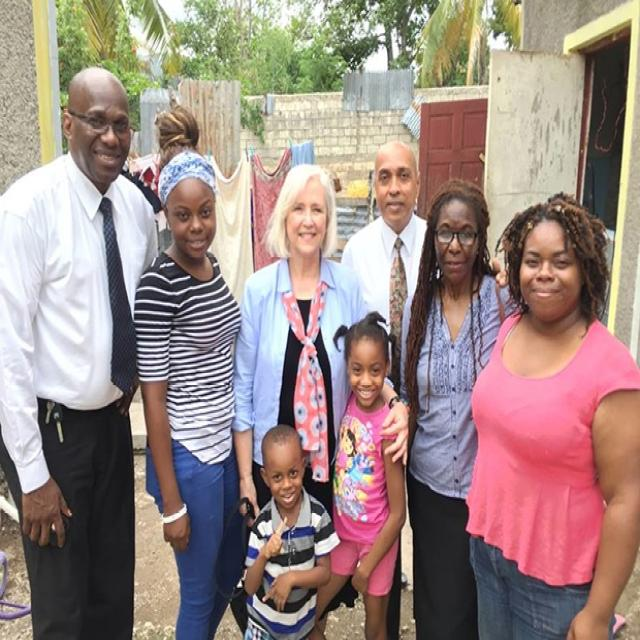body: (0, 63, 165, 639), (338, 137, 512, 638), (461, 186, 639, 638), (230, 160, 411, 534), (395, 177, 526, 640), (130, 139, 250, 639), (311, 309, 407, 640), (237, 420, 344, 638), (152, 91, 202, 151)
